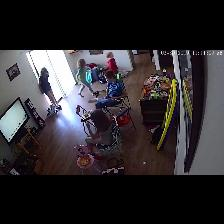person: (89, 70, 127, 108), (86, 110, 112, 154), (39, 68, 61, 109), (76, 59, 93, 97), (107, 52, 117, 73)
